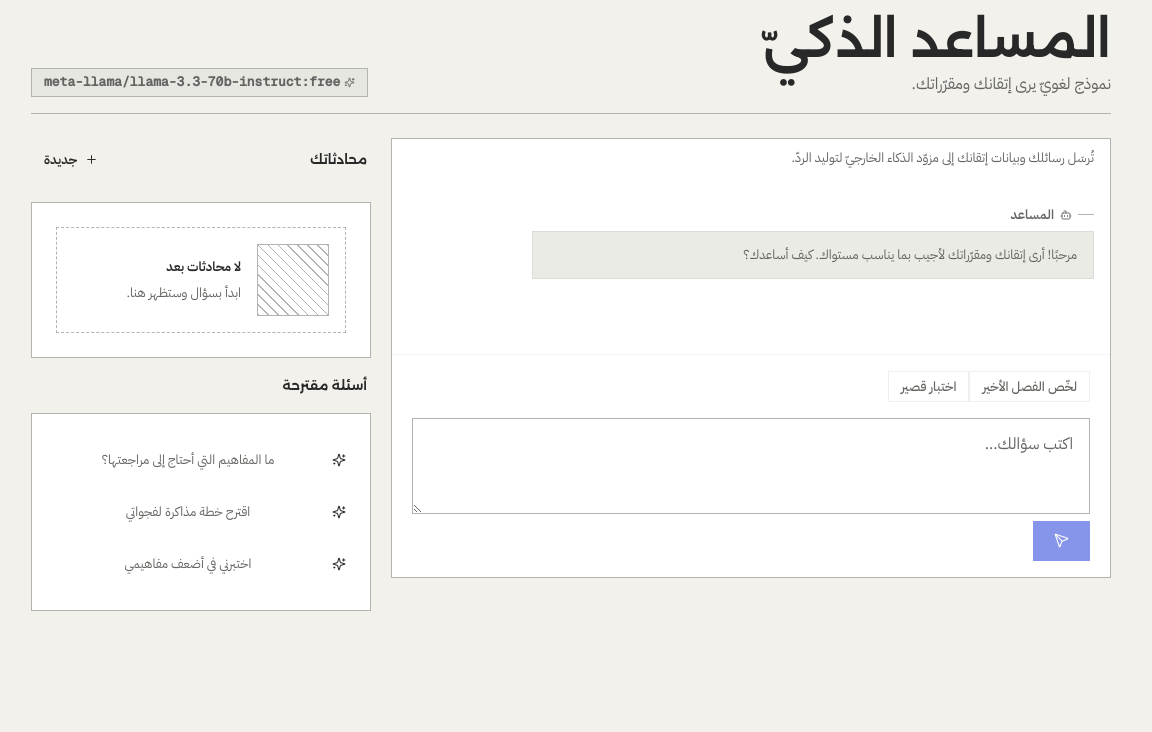
AiAssistantPage — SSE consumption (r323 B1.1) › a mid-stream failure AFTER the done frame is impossible to double-render (done wins)
Type "سؤال سريع" into the text box named "اكتب سؤالك للمساعد". click: point(751, 466)
box: [412,418,1090,514]
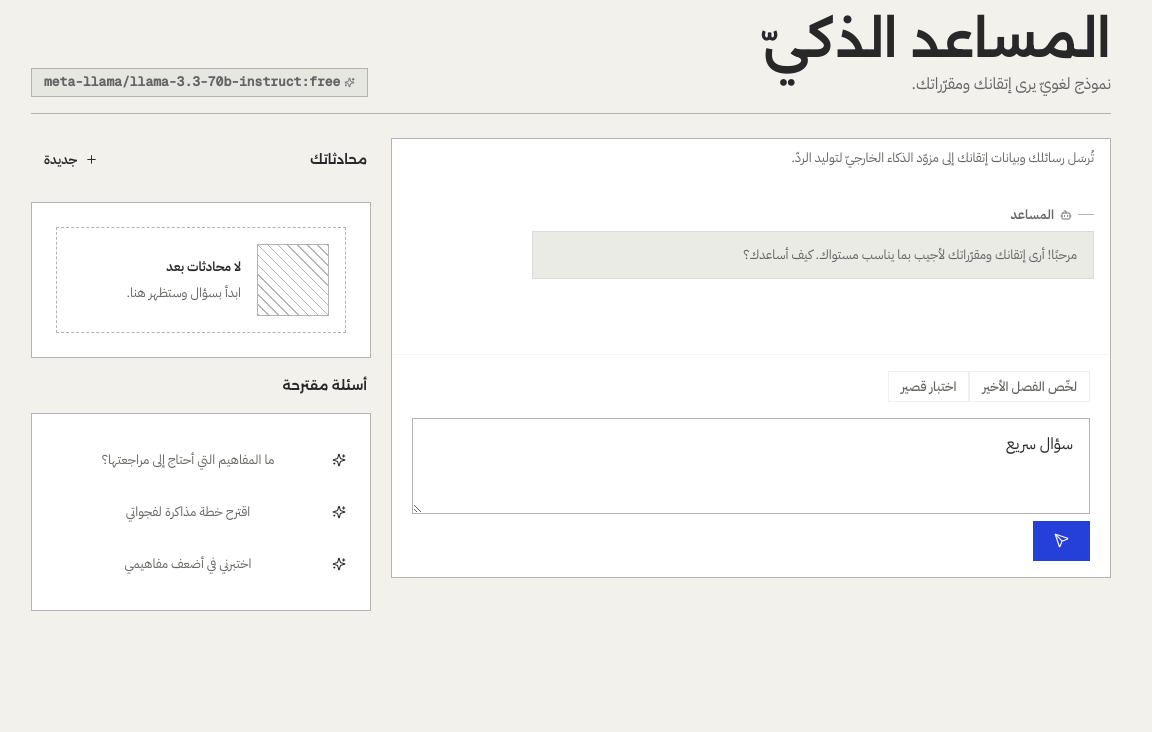
Click the button named "إرسال". click: point(1062, 540)
box: [1033,520,1090,560]
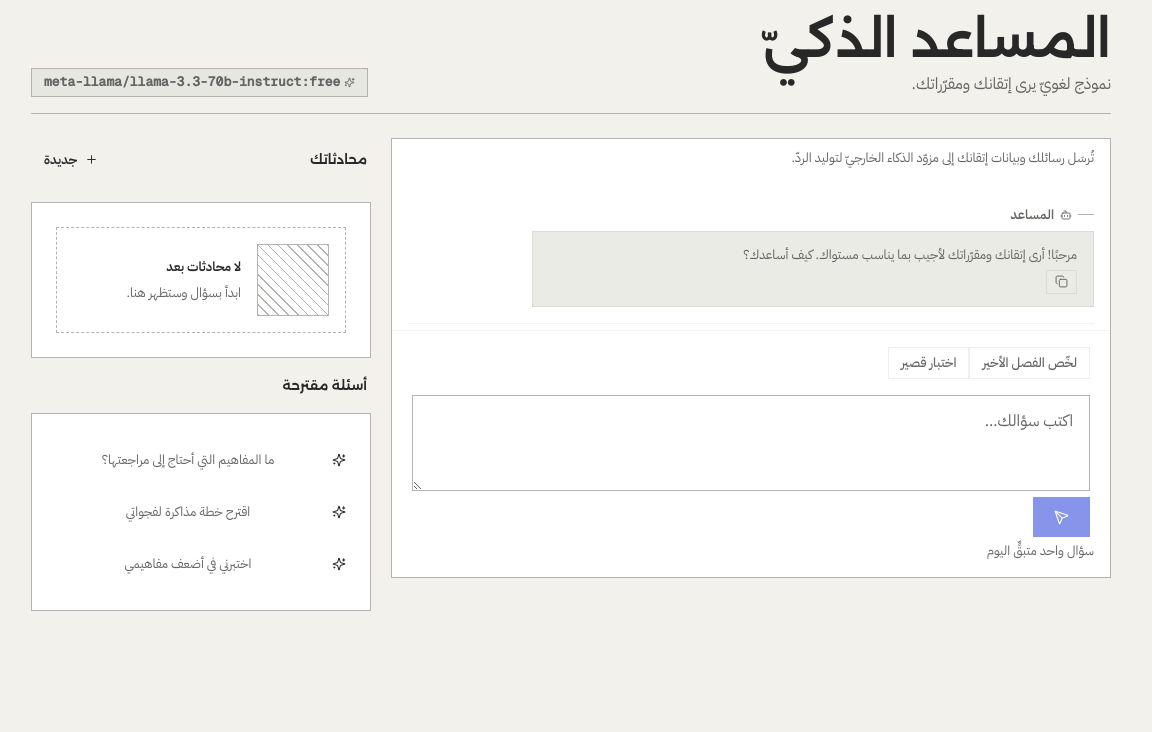
Now the text "سؤال واحد متبقٍّ اليوم" is shown, box [987,541,1094,560]
